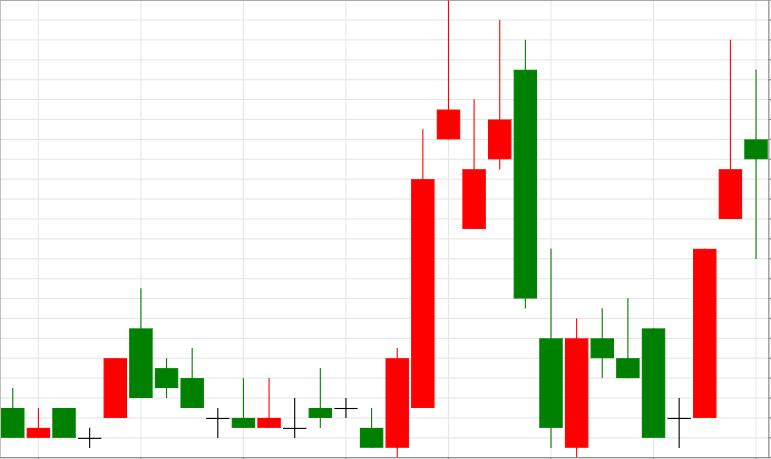shooting_star_fall: (359, 0, 460, 458)
